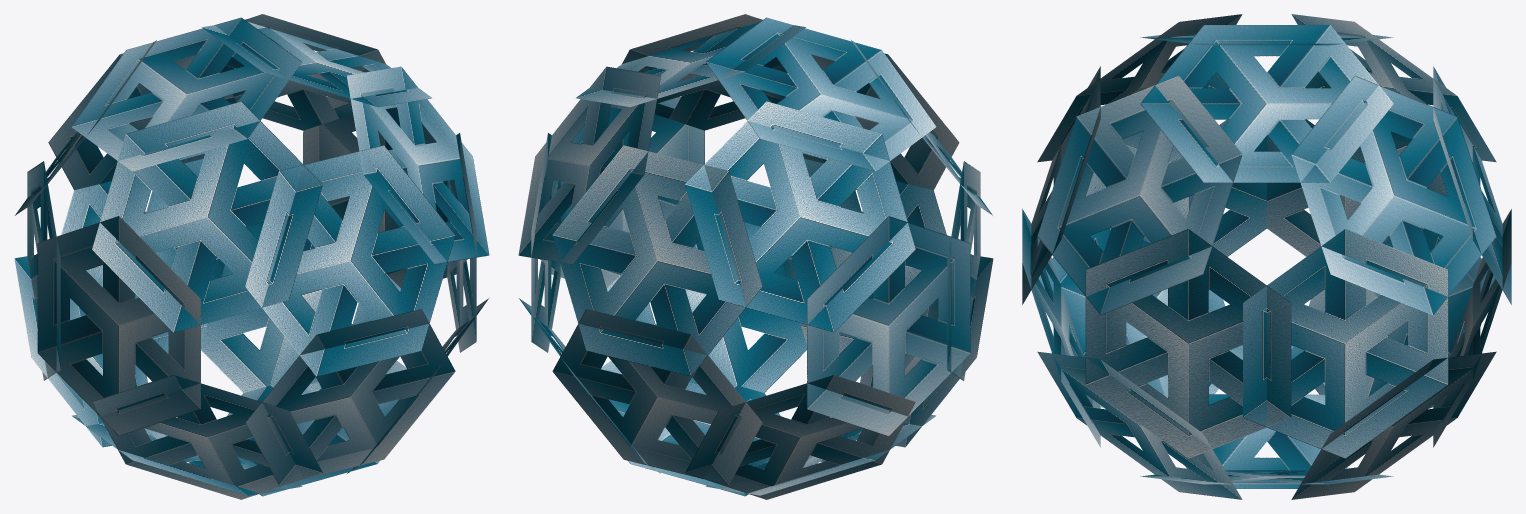
File: IcositruncatedDodecadodecahedron43.gltf
3 renders of one model, left to right at view 1: azimuth 30°, elevation 25°; view 2: azimuth 150°, elevation 25°; view 3: azimuth 270°, elevation 25°, orthographic. The views are drawn at different scales.
Parts seen in each view (by area): view 1: IcositruncatedDodecadodecahedron; view 2: IcositruncatedDodecadodecahedron; view 3: IcositruncatedDodecadodecahedron.
Part boxes in pixels (x1,y1,x2,y2): IcositruncatedDodecadodecahedron: [14, 14, 489, 499]; IcositruncatedDodecadodecahedron: [518, 14, 993, 499]; IcositruncatedDodecadodecahedron: [1022, 14, 1511, 499].
Size of the model in its own units: 3.85 by 3.85 by 3.85.
Materials: 1 (1 with a texture image).
